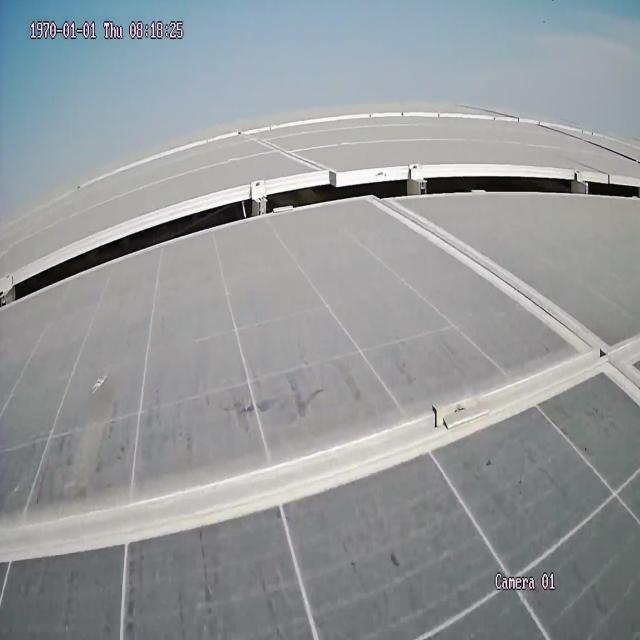interior panel: (4, 198, 640, 566)
outher panel: (2, 166, 640, 311)
